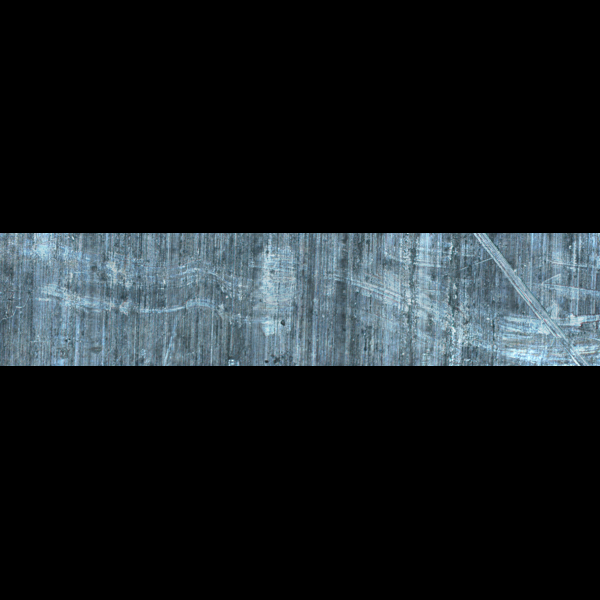d: (465, 233, 595, 360), (29, 251, 297, 312), (326, 233, 462, 325), (240, 246, 304, 343)
